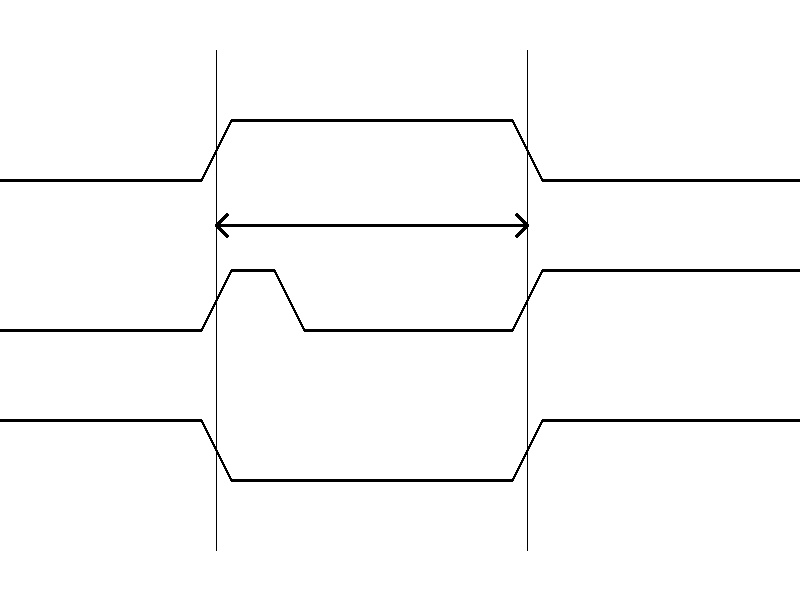double_arrow: (216, 210, 527, 240)
